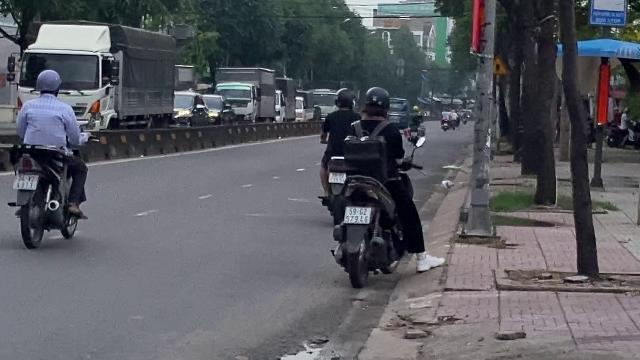helmet: (361, 86, 391, 118), (34, 68, 62, 96), (334, 87, 356, 109)
licenseplate: (344, 206, 370, 222), (13, 174, 37, 190), (328, 172, 346, 182)
motorcyclist: (316, 82, 426, 286), (4, 67, 90, 249), (314, 86, 362, 224)
